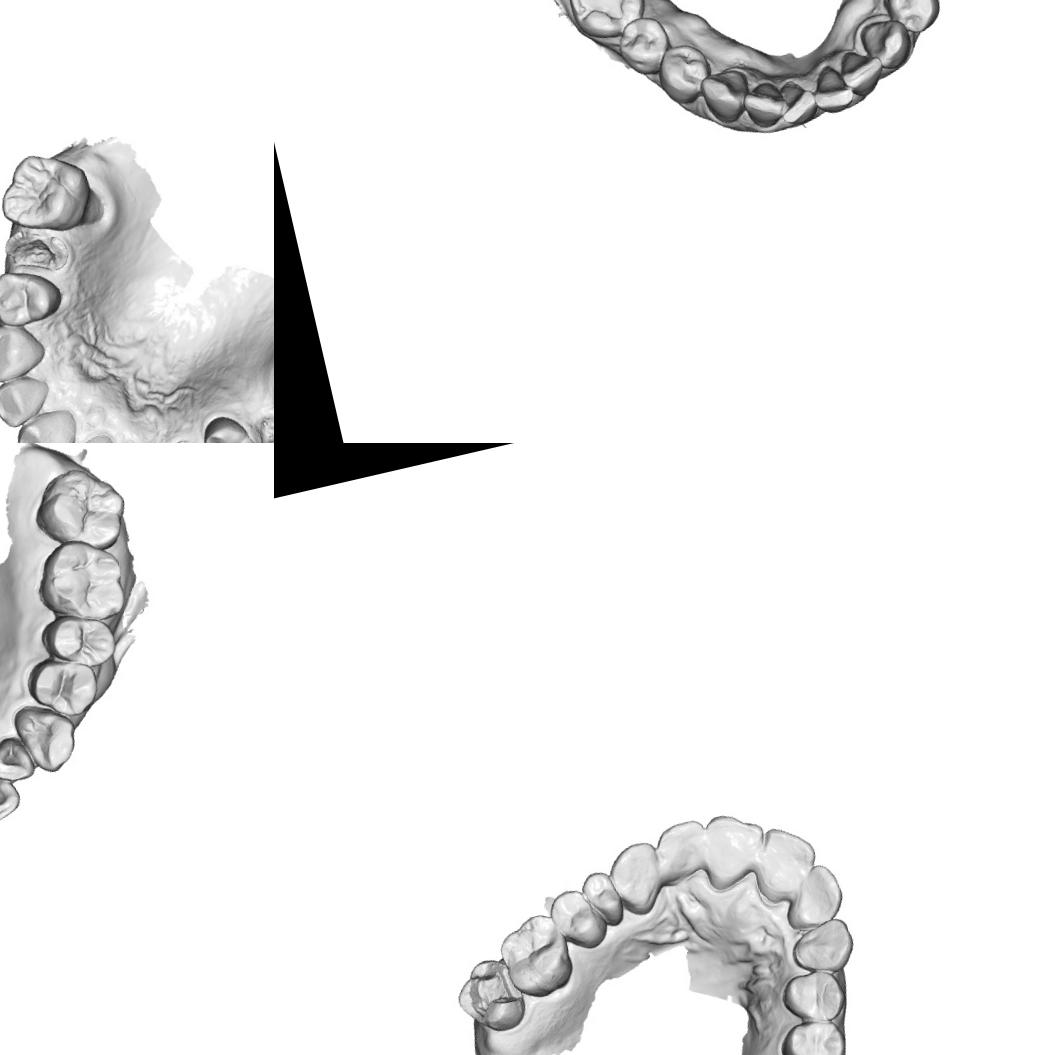canine: (602, 836, 672, 924), (10, 696, 84, 779), (784, 913, 860, 982), (695, 60, 758, 128), (854, 12, 918, 75), (0, 317, 51, 389)
incisor: (694, 806, 775, 894), (746, 819, 824, 905), (775, 859, 850, 935), (650, 815, 712, 884), (0, 371, 58, 432), (834, 43, 889, 103), (805, 60, 861, 118), (737, 75, 790, 134), (9, 404, 88, 443), (772, 75, 822, 130), (0, 748, 26, 834), (0, 731, 37, 788)
molar: (25, 460, 135, 564), (28, 529, 132, 633), (0, 141, 104, 243), (491, 906, 581, 1006), (447, 950, 532, 1041), (559, 0, 652, 49)
premolar: (22, 648, 104, 726), (36, 605, 121, 676), (545, 881, 613, 957), (651, 38, 720, 110), (611, 10, 679, 83), (776, 965, 851, 1030), (0, 260, 67, 332), (576, 864, 628, 932), (774, 1013, 852, 1055), (878, 0, 947, 40), (198, 409, 269, 443)
